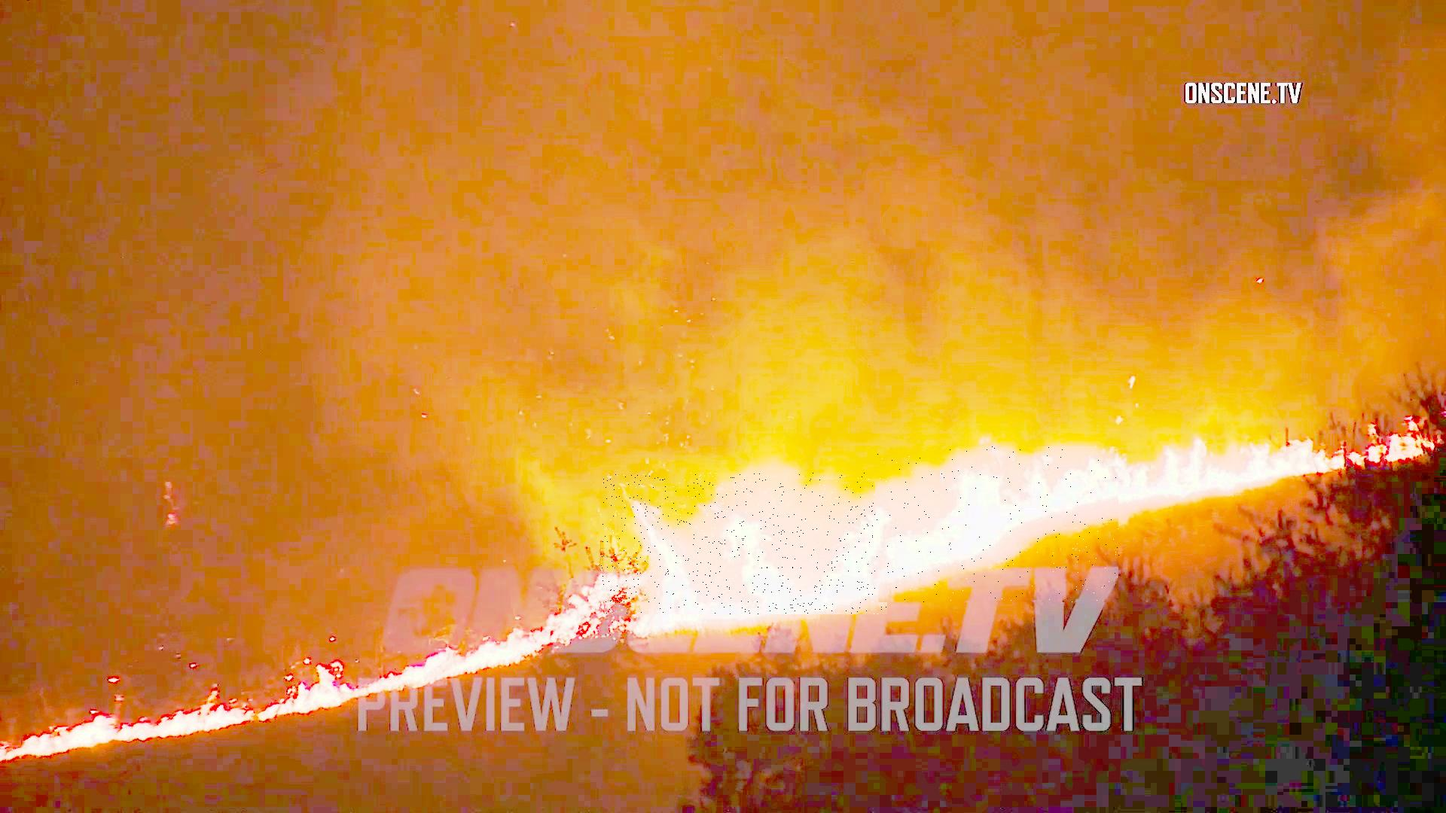fire: (601, 473, 889, 614), (876, 447, 1121, 602)
